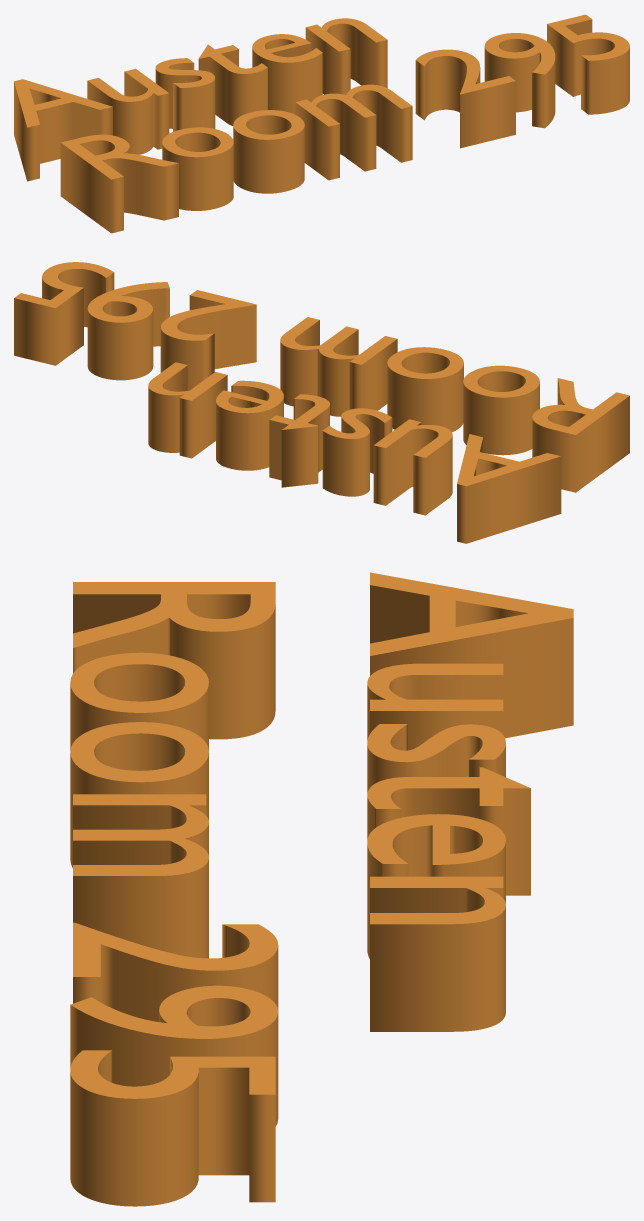
The model's file is austen-295.gltf.
3 renders of one model, top to bottom at view 1: azimuth 30°, elevation 25°; view 2: azimuth 150°, elevation 25°; view 3: azimuth 270°, elevation 25°, orthographic. The views are drawn at different scales.
Parts seen in each view (by area): view 1: Text; view 2: Text; view 3: Text.
Part boxes in pixels (x1,y1,x2,y2): Text: (14, 14, 629, 233); Text: (14, 262, 629, 543); Text: (70, 572, 573, 1206).
Bounding box in the file's own units: 4.2 × 0.4 × 1.69.
